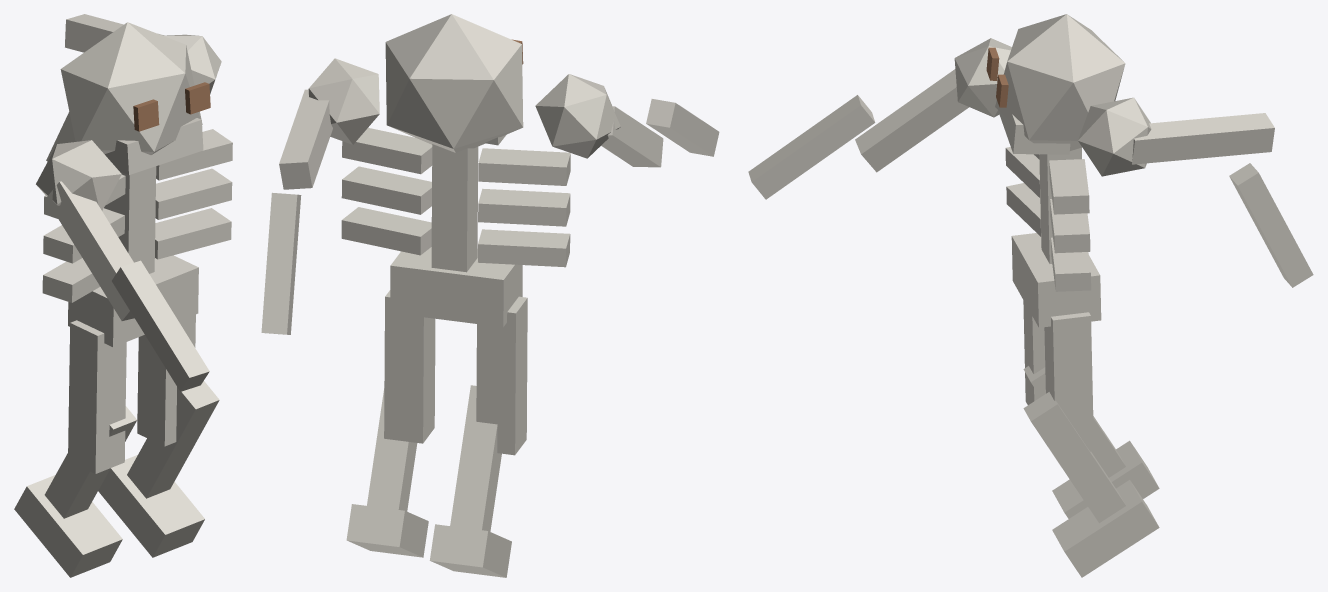
File: npcpose_skeleton_attack_05.glb
3 views of the same model, side by side, from view 1: azimuth 30°, elevation 25°; view 2: azimuth 150°, elevation 25°; view 3: azimuth 270°, elevation 25° (orthographic). The views are drawn at different scales.
Visible parts, largest first — view 1: npcpose; view 2: npcpose; view 3: npcpose.
Boxes of the visible parts, box(x1,y1,x2,y2) form: npcpose: box(14, 14, 232, 577); npcpose: box(261, 14, 719, 577); npcpose: box(748, 14, 1313, 577).
Size of the model in its own units: 0.7536 by 1.64 by 1.59.
